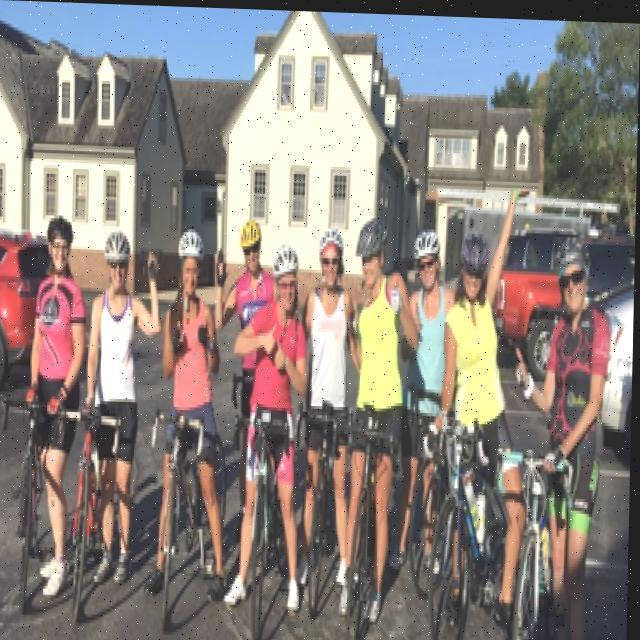Helmet: (556, 212, 592, 320), (349, 209, 393, 287), (459, 221, 494, 314), (408, 222, 448, 294), (270, 233, 305, 311), (39, 206, 80, 272), (102, 216, 134, 298), (174, 216, 206, 294), (317, 217, 349, 286), (237, 212, 265, 268)
